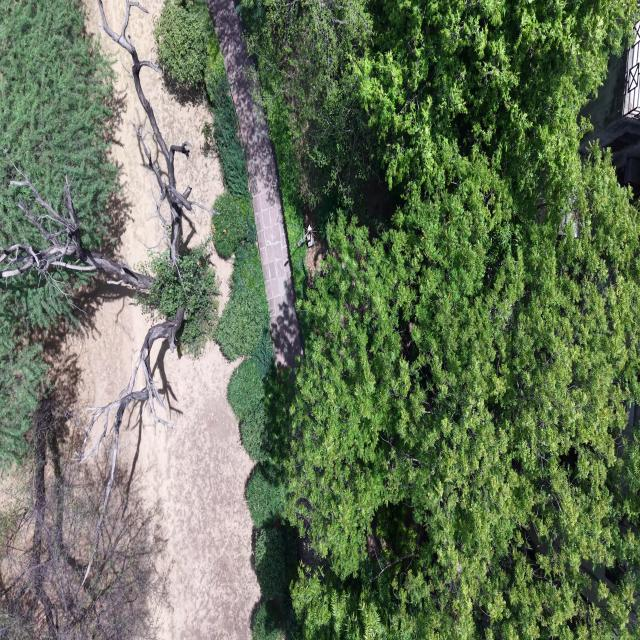DRY_AREA: (121, 342, 259, 639), (207, 0, 302, 367)
VEGETATION_TREE: (157, 0, 639, 639), (242, 0, 639, 638), (286, 150, 639, 637), (0, 0, 216, 638), (242, 0, 636, 210), (353, 0, 637, 215), (204, 36, 297, 639), (207, 41, 296, 639), (0, 2, 153, 349), (2, 3, 117, 460), (0, 399, 166, 639), (98, 0, 214, 315), (216, 228, 296, 639), (239, 0, 379, 234), (0, 0, 121, 251), (0, 0, 118, 249), (198, 32, 268, 360), (228, 326, 297, 639), (228, 334, 298, 639), (203, 33, 268, 360), (206, 36, 268, 360), (137, 245, 218, 356), (228, 321, 283, 472), (267, 102, 307, 299), (205, 35, 250, 200), (215, 221, 268, 360), (270, 110, 306, 297), (0, 328, 47, 467), (154, 0, 212, 87), (228, 358, 266, 461), (254, 527, 296, 600), (212, 192, 254, 258), (283, 197, 307, 299), (246, 466, 284, 527), (252, 601, 282, 639)
